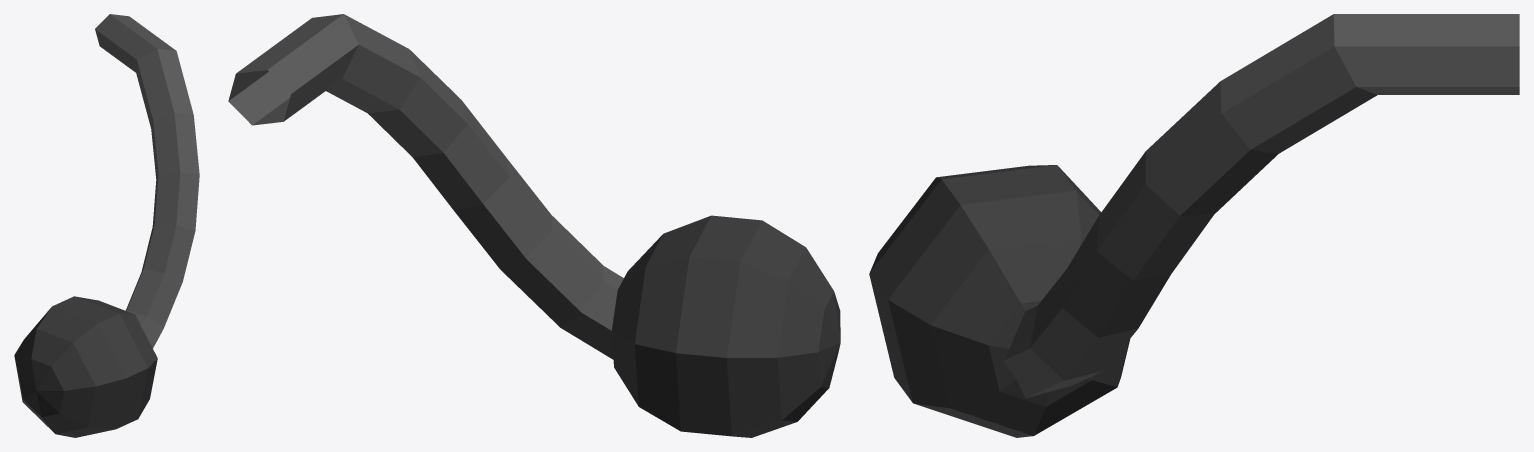
The model's file is SniperRifle1_02_4.fbx.
3 renders of one model, left to right at view 1: azimuth 30°, elevation 25°; view 2: azimuth 150°, elevation 25°; view 3: azimuth 270°, elevation 25°, orthographic. The views are drawn at different scales.
Visible parts, largest first — view 1: SniperRifle1_02_4; view 2: SniperRifle1_02_4; view 3: SniperRifle1_02_4.
Part boxes in pixels (x1,y1,x2,y2): SniperRifle1_02_4: [14, 14, 199, 437]; SniperRifle1_02_4: [228, 14, 840, 437]; SniperRifle1_02_4: [869, 14, 1519, 437].
Bounding box in the file's own units: 0.05 × 0.0566 × 0.0598.
